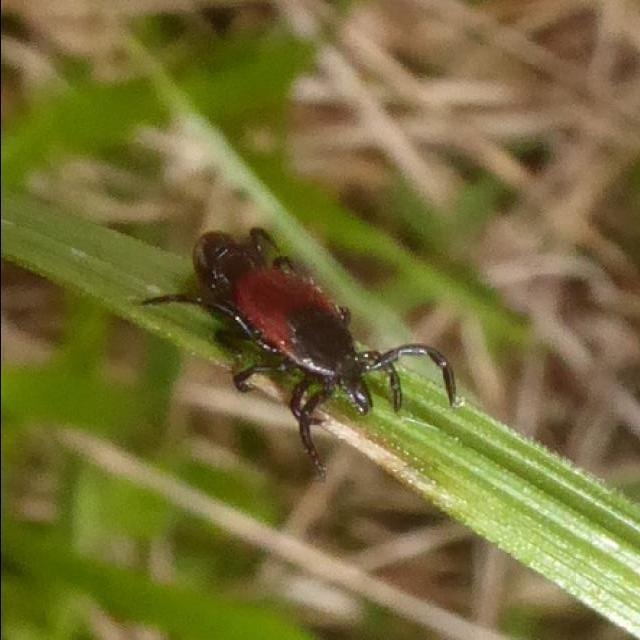Ixodes Ricinus-F: (139, 259, 452, 477)
